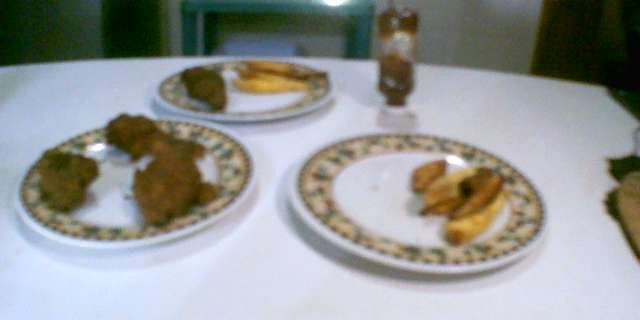chicken: (122, 145, 221, 226), (100, 109, 208, 164), (30, 145, 100, 220), (179, 63, 237, 113)
ketchup_bottle: (368, 4, 427, 122)
potatoe_fries: (410, 149, 512, 246), (230, 57, 334, 98)
